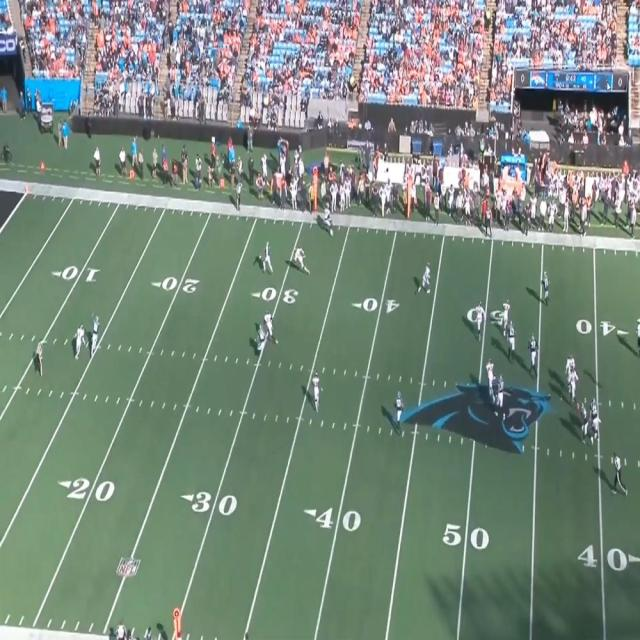db: (292, 246, 304, 274), (312, 374, 321, 411), (77, 326, 86, 361), (264, 309, 272, 340), (326, 212, 333, 235)
lb: (422, 264, 431, 296)
qb: (541, 270, 550, 304)
skill: (91, 316, 100, 352), (396, 392, 404, 431), (258, 326, 266, 356), (263, 239, 270, 272), (323, 203, 328, 211)
